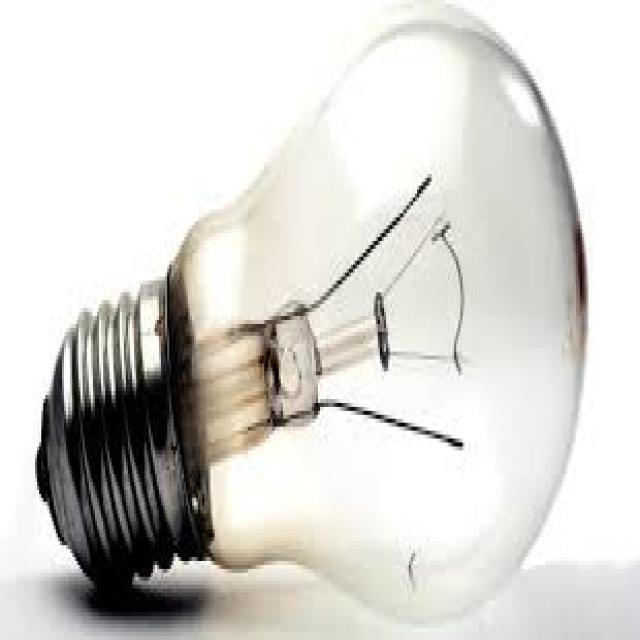bulb_off: (38, 18, 592, 620)
